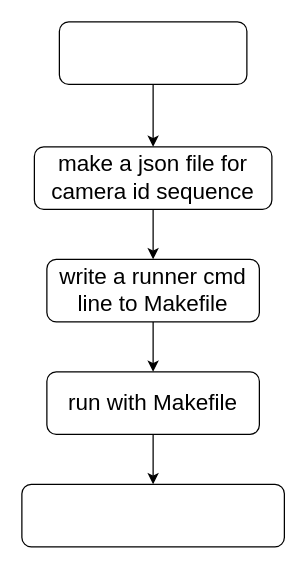
Image size: 306x569. Some labels were removed from this diagram. The box of each missing label's shape, as (x1, y1, x2, y2) in pixels:
get layouts: (58, 21, 247, 84)
rewrite json responses with correct camera ids: (21, 483, 284, 547)
